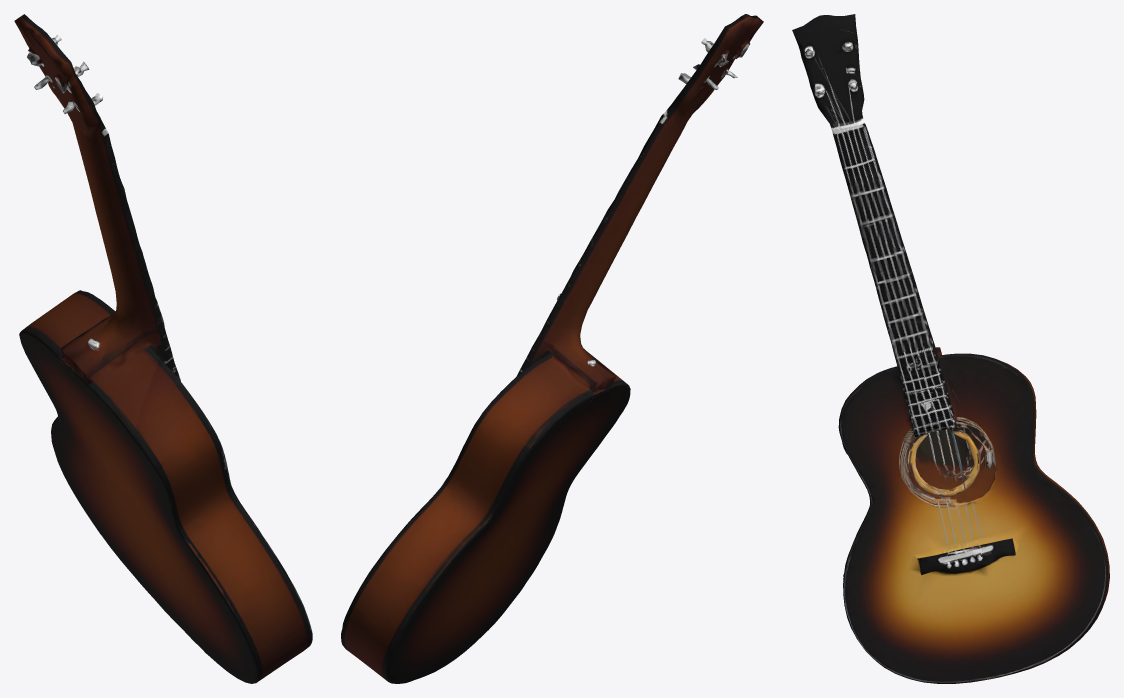
The model's file is photoreal-guitar-08e11d6f.glb.
The picture shows the model from 3 angles, left to right: view 1: azimuth 30°, elevation 25°; view 2: azimuth 150°, elevation 25°; view 3: azimuth 270°, elevation 25°; orthographic projection. The views are drawn at different scales.
Visible parts, largest first — view 1: tripo_node_d22f6461-b44b-4f3d-a3df-2b0e666d5f0f; view 2: tripo_node_d22f6461-b44b-4f3d-a3df-2b0e666d5f0f; view 3: tripo_node_d22f6461-b44b-4f3d-a3df-2b0e666d5f0f.
Boxes of the visible parts, x1,y1,x2,y2 form: tripo_node_d22f6461-b44b-4f3d-a3df-2b0e666d5f0f: (14, 14, 312, 683); tripo_node_d22f6461-b44b-4f3d-a3df-2b0e666d5f0f: (341, 14, 763, 683); tripo_node_d22f6461-b44b-4f3d-a3df-2b0e666d5f0f: (792, 14, 1109, 683).
Bounding box in the file's own units: 0.4421 × 0.9984 × 0.5014.
Materials: 1 (1 with a texture image).
